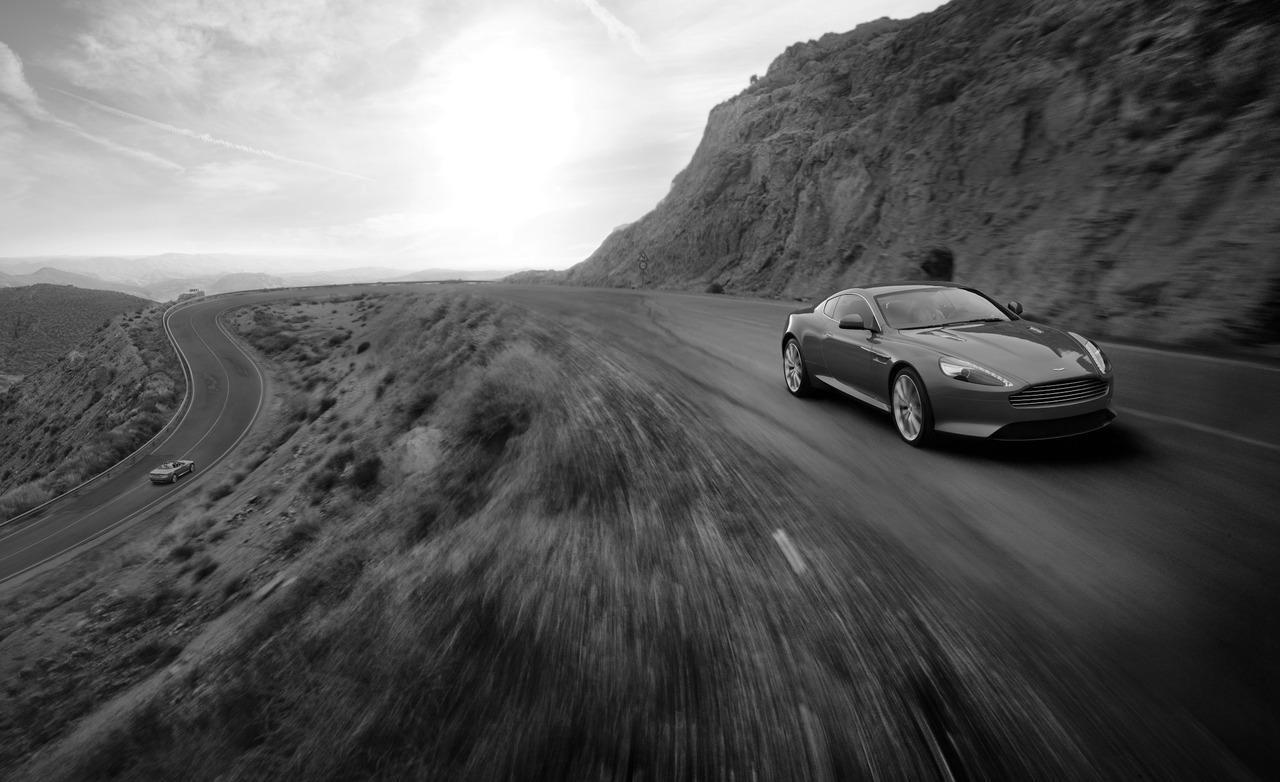car: (770, 250, 1117, 463)
